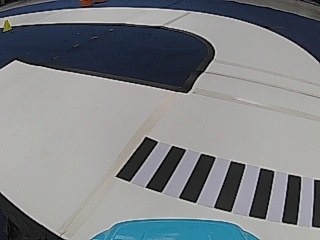CrossWalk: (118, 142, 319, 222)
